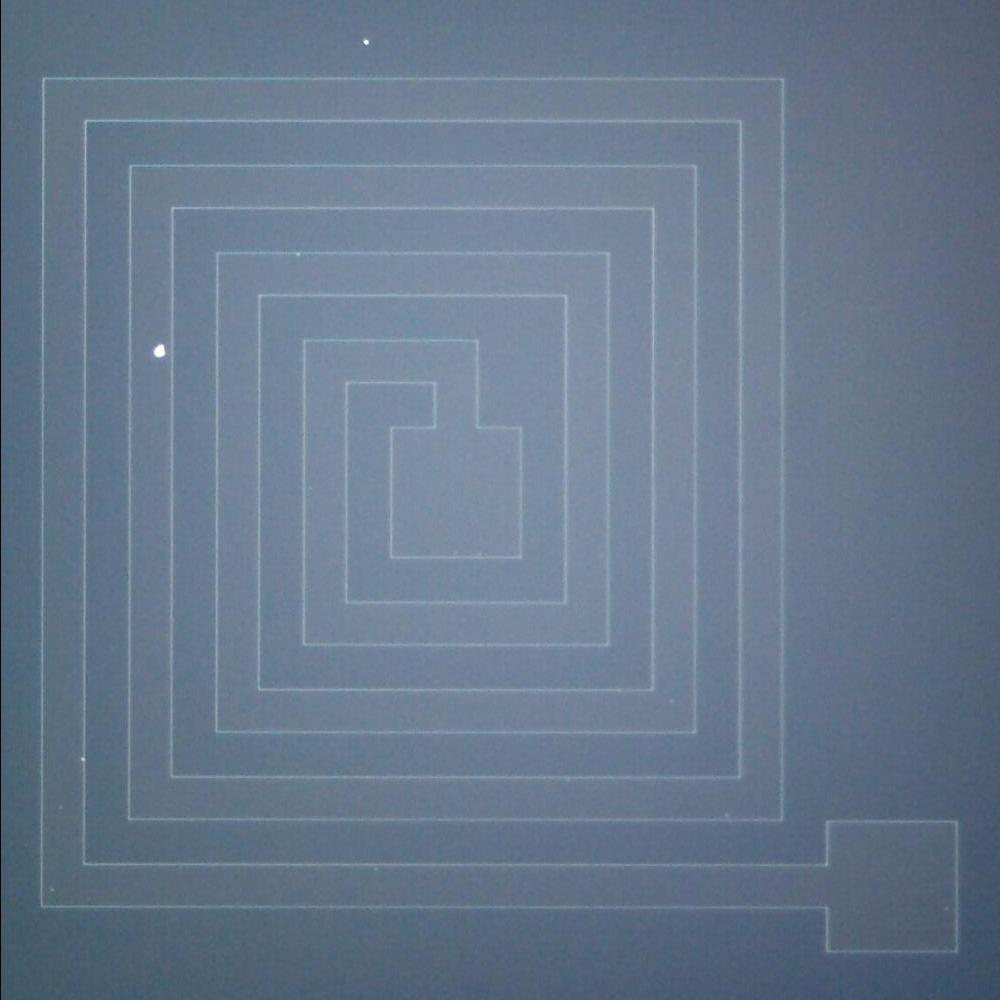dot: (347, 27, 380, 57)
spot: (144, 335, 174, 368)
